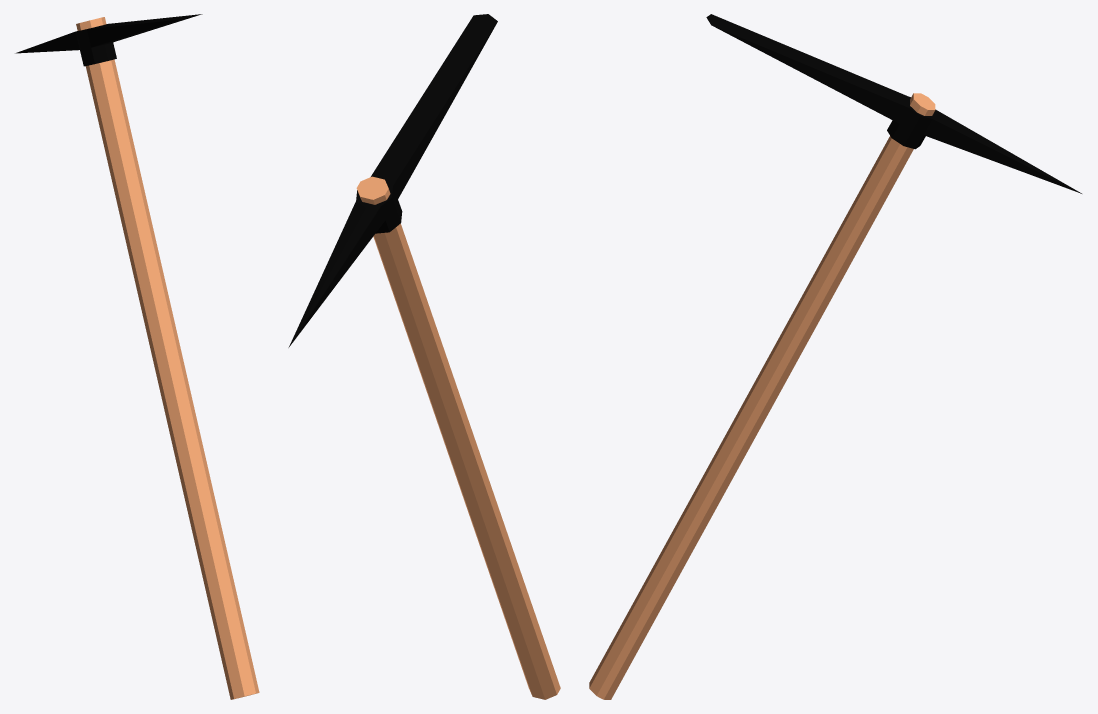
The model's file is pickaxe (1).fbx.
The picture shows the model from 3 angles, left to right: view 1: azimuth 30°, elevation 25°; view 2: azimuth 150°, elevation 25°; view 3: azimuth 270°, elevation 25°; orthographic projection. The views are drawn at different scales.
Visible parts, largest first — view 1: Pickaxe; view 2: Pickaxe; view 3: Pickaxe.
Boxes of the visible parts, left/top/right/bottom form: Pickaxe: left=15, top=14, right=259, bottom=699; Pickaxe: left=288, top=14, right=560, bottom=699; Pickaxe: left=589, top=14, right=1081, bottom=699.
Size of the model in its own units: 11.34 by 149 by 226.
